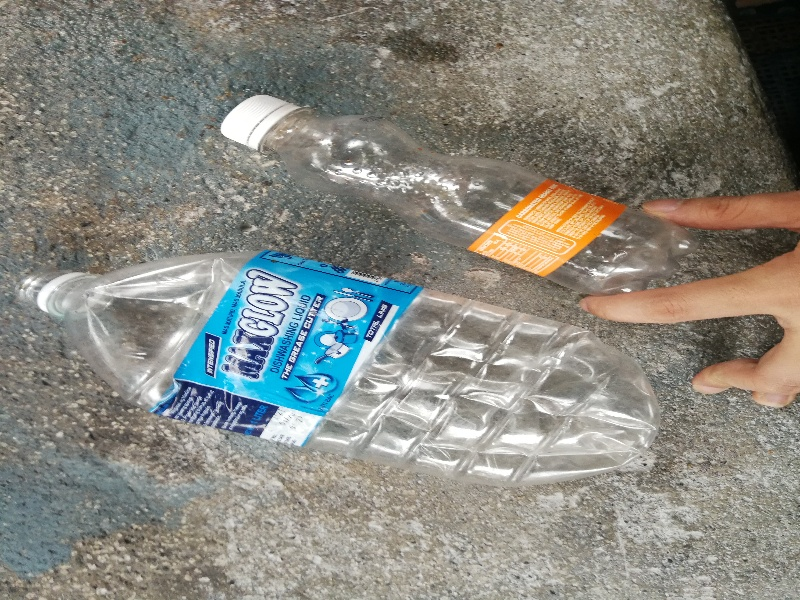PET #1: (16, 262, 666, 484), (209, 91, 696, 307)
